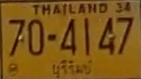0: (27, 18, 43, 55)
1: (84, 17, 89, 55)
4: (97, 16, 114, 53), (60, 18, 75, 54)
7: (116, 16, 133, 53), (8, 18, 24, 55)
BRM: (50, 58, 95, 79)
